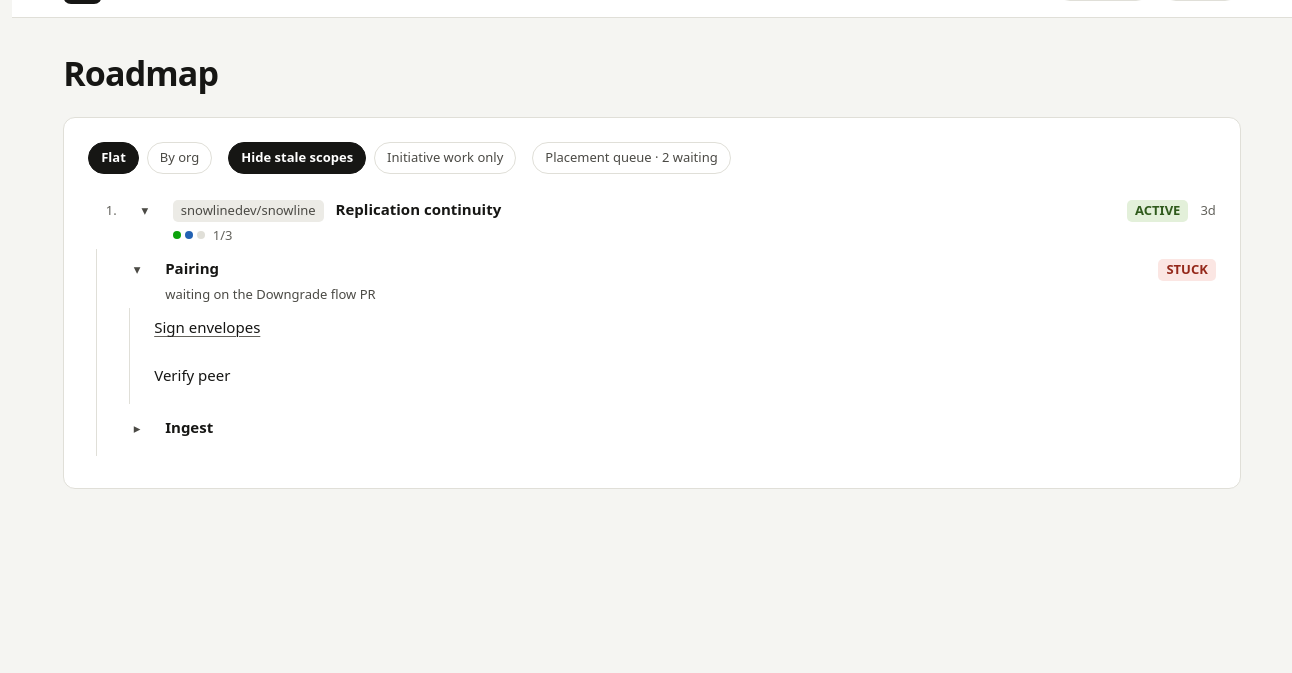
Test: board kind: view state in the URL › toggling writes the param and toggling back to default leaves a bare URL
Check: the text "Replication continuity" is shown, box [336, 199, 501, 219]
What coordinates should you click on to do the following:
click the button "Hide stale scopes"
I would click on:
 (297, 158)
Its box is [228, 142, 366, 174].
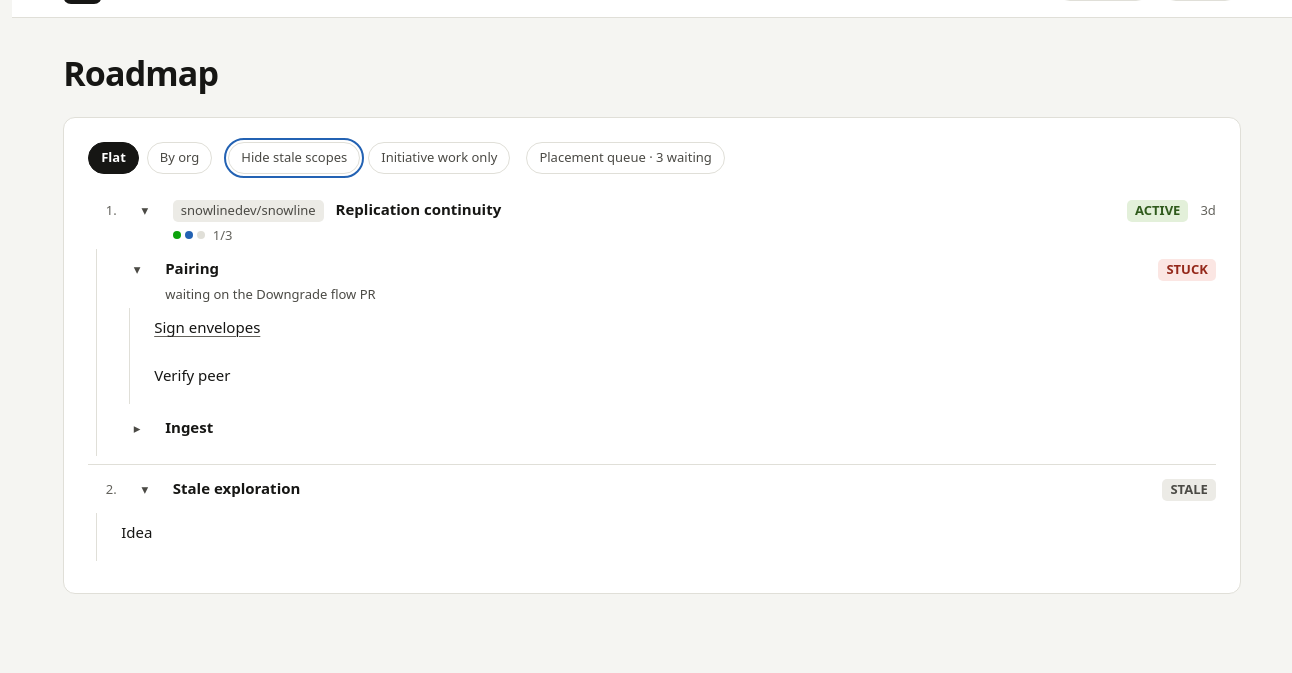
What coordinates should you click on to do the following:
click the button "Hide stale scopes"
I would click on:
 (294, 158)
Its box is [228, 142, 360, 174].
(page scrolled)
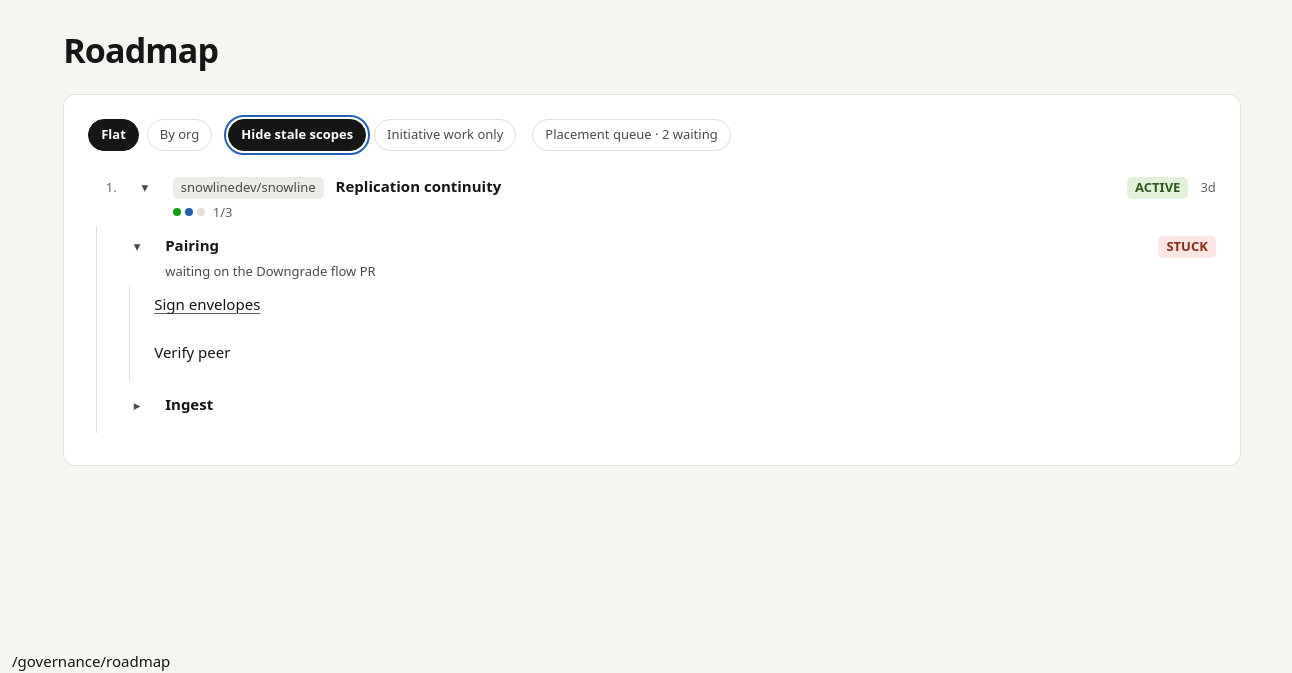
Check: the text with test id "url" reads "/governance/roadmap", box [12, 651, 170, 671]
